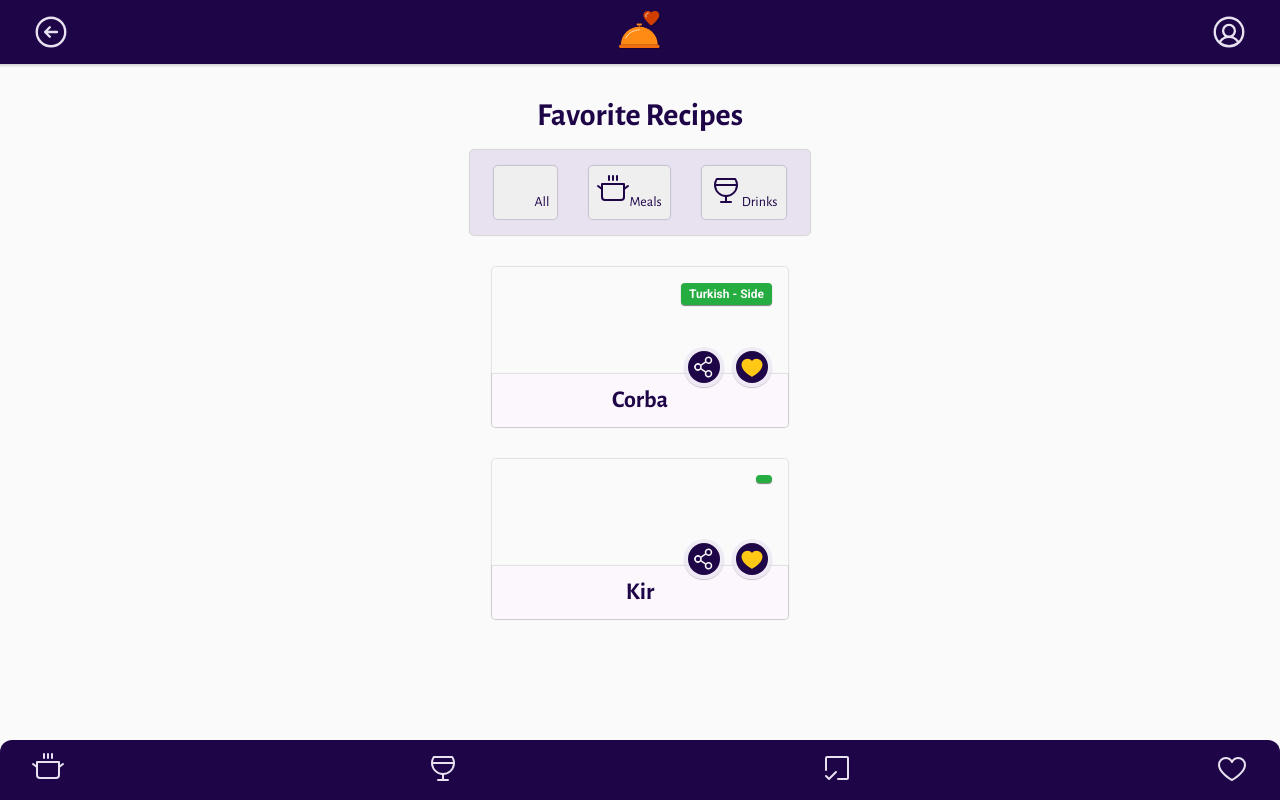
Test: Testa a página Favorite Recipes › Verifica se é possível filtrar por comidas
Click the button with test id "filter-by-meal-btn": (630, 192) [590,166,670,219]
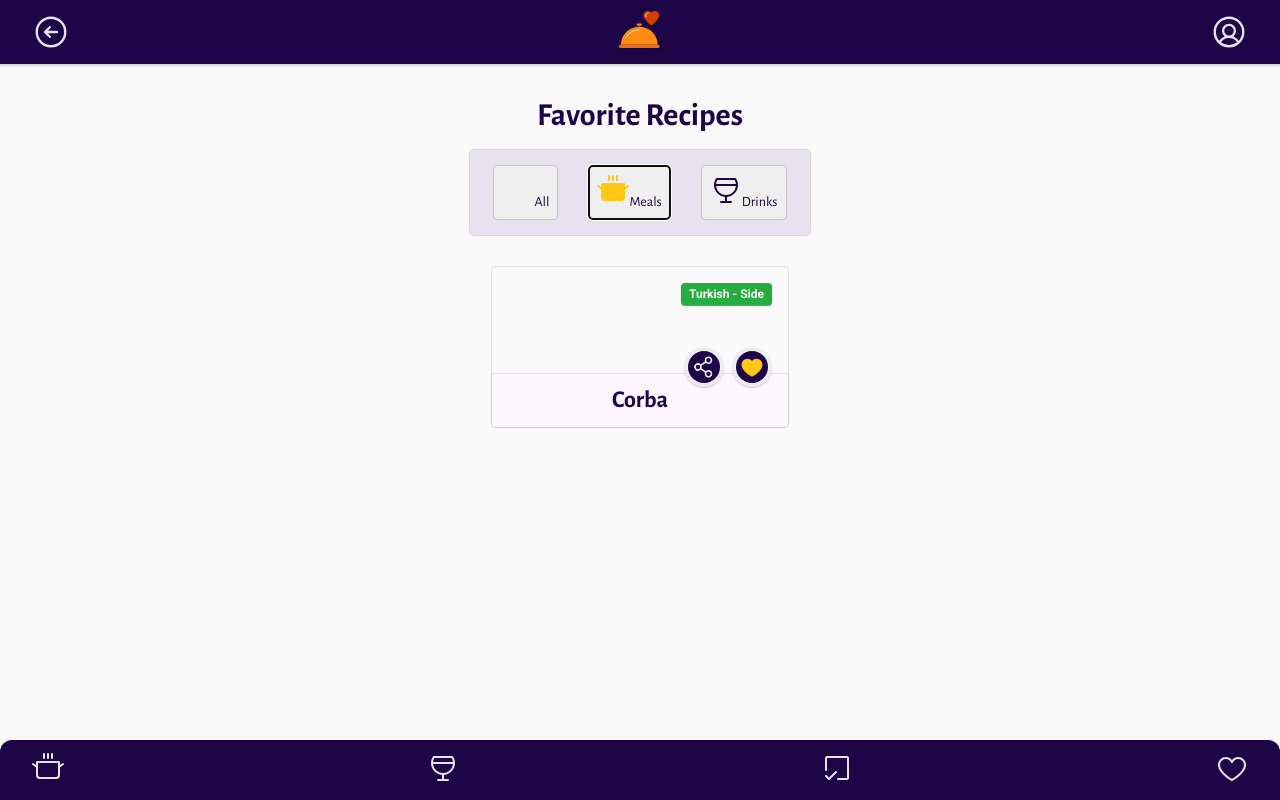
Expected: the text with test id "0-horizontal-name" reads "Corba", [612,388,668,412]
Now the text with test id "1-horizontal-name" is gone
